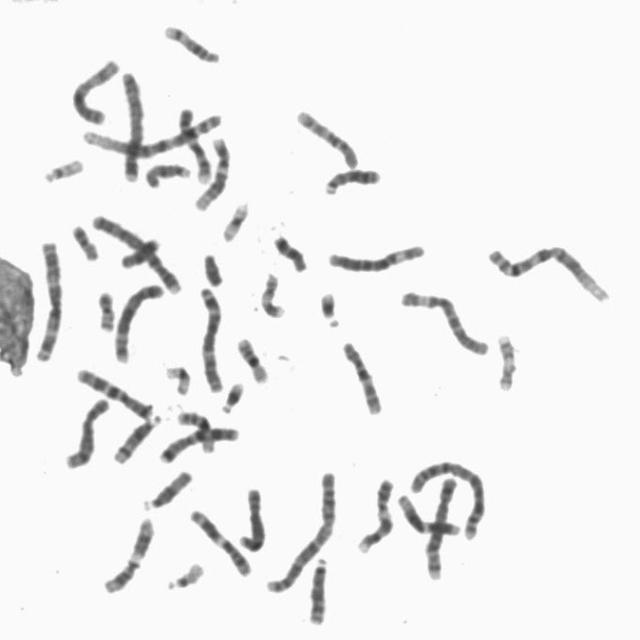A1: (484, 238, 616, 306), (77, 104, 225, 158)
A2: (261, 463, 341, 595), (405, 452, 491, 541)
A3: (29, 234, 66, 363), (194, 279, 229, 394)
B4: (86, 208, 186, 296), (117, 64, 148, 184)
B5: (109, 277, 167, 364), (420, 467, 462, 581)
C10: (292, 102, 364, 170), (337, 334, 388, 416)
C11: (186, 502, 256, 578), (98, 509, 158, 596)
C12: (392, 487, 464, 537), (191, 131, 234, 211)
C6: (396, 282, 494, 358), (323, 236, 430, 275)
C7: (72, 361, 159, 421), (155, 419, 243, 464)
C8: (61, 390, 114, 471), (234, 479, 270, 554)
C9: (353, 471, 399, 554), (173, 99, 215, 184)
D13: (320, 161, 385, 196), (305, 550, 333, 626)
D14: (108, 409, 165, 465), (160, 17, 224, 64)
D15: (138, 463, 196, 512), (140, 156, 193, 189)
E16: (232, 330, 274, 386), (173, 404, 219, 454)
E17: (256, 265, 290, 320), (492, 327, 520, 393)
E18: (269, 227, 311, 273), (116, 231, 162, 270)
F19: (218, 195, 252, 243), (160, 357, 194, 396)
F20: (66, 218, 102, 262), (92, 284, 120, 332)
G21: (314, 284, 344, 328), (215, 375, 248, 415)
G22: (161, 555, 207, 592), (39, 151, 87, 184)
X: (65, 51, 124, 126)
Y: (197, 246, 228, 287)
